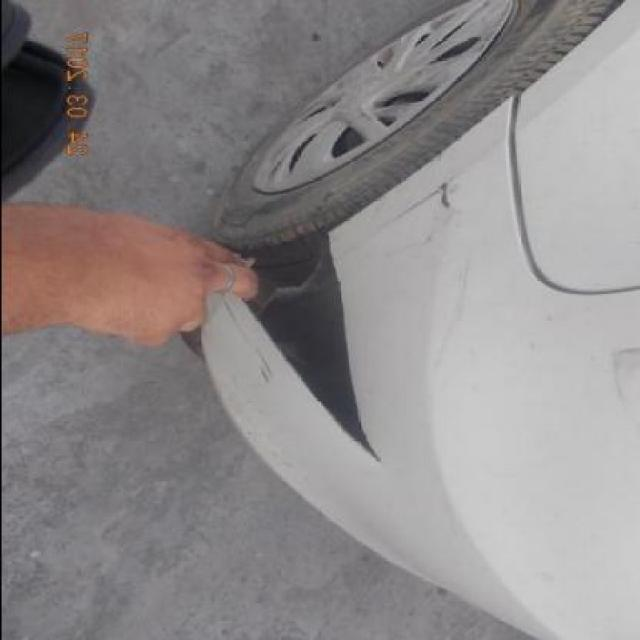damage: (236, 227, 374, 460), (393, 179, 454, 218), (606, 343, 640, 408)
